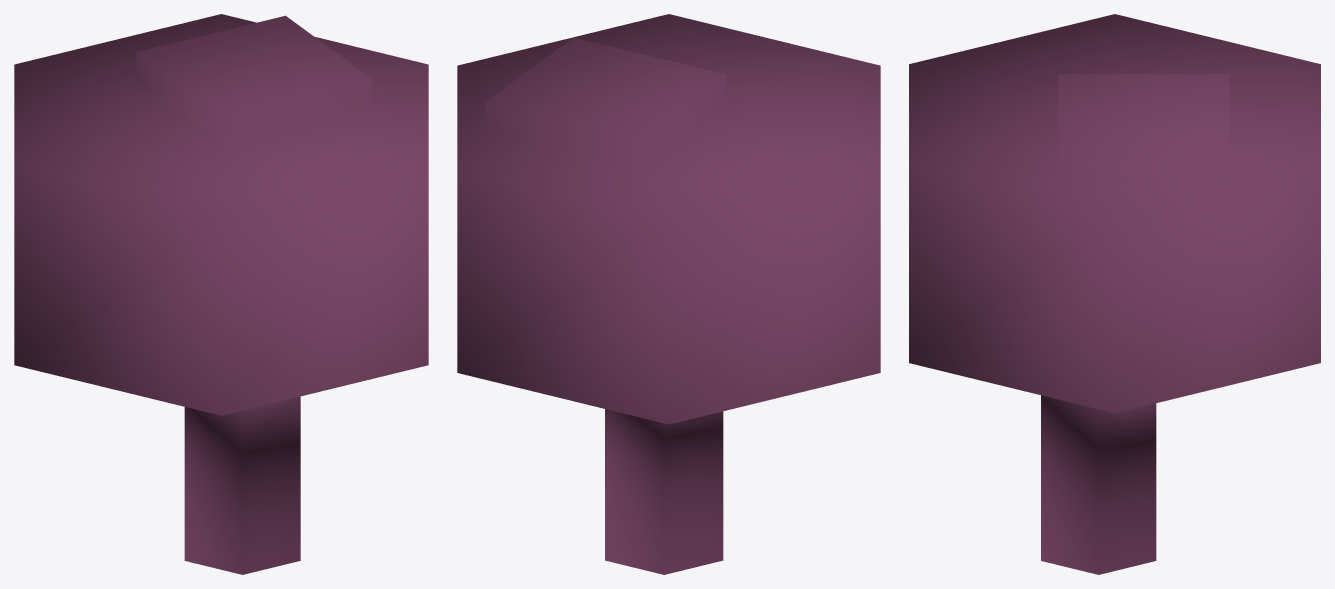
The model's file is ps2_jrpg_swamp_gnarled_tree.obj.
3 renders of one model, left to right at view 1: azimuth 30°, elevation 25°; view 2: azimuth 150°, elevation 25°; view 3: azimuth 270°, elevation 25°, orthographic. The views are drawn at different scales.
Size of the model in its own units: 2 by 2.1 by 1.73.
